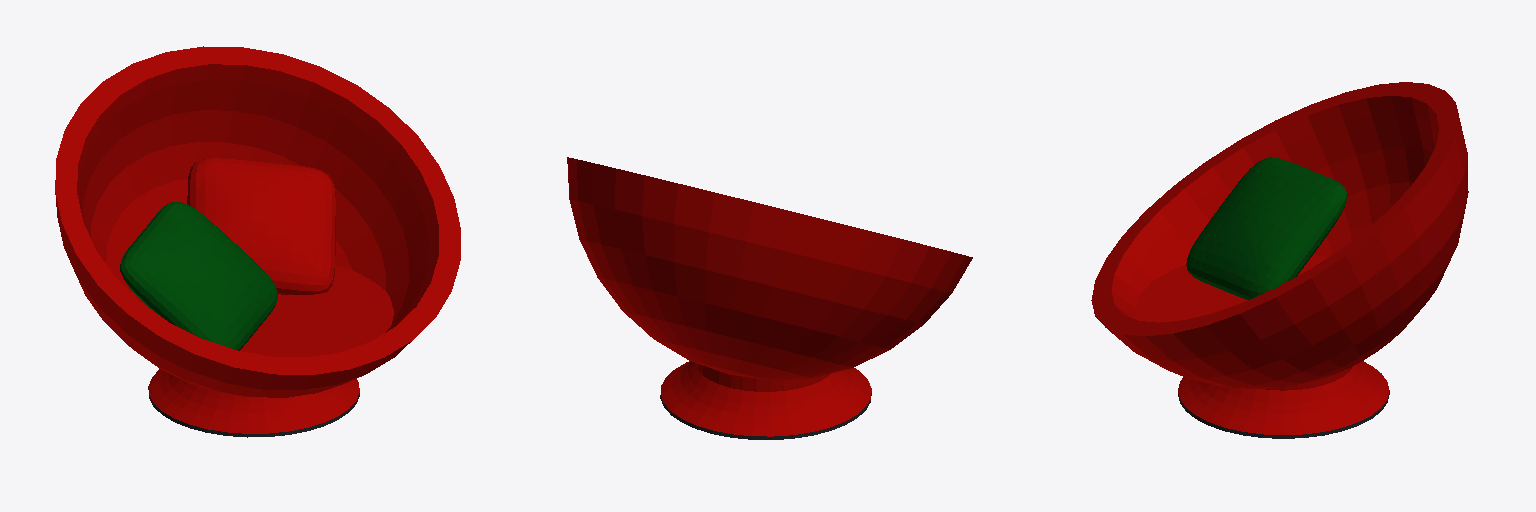
Rendered from Chair1.obj.
The picture shows the model from 3 angles: view 1: azimuth 30°, elevation 25°; view 2: azimuth 150°, elevation 25°; view 3: azimuth 270°, elevation 25°; orthographic projection.
Parts seen in each view (by area): view 1: ChairC_Cube.006; view 2: ChairC_Cube.006; view 3: ChairC_Cube.006.
Part boxes in pixels (bbox=[...]): ChairC_Cube.006: bbox=[55, 46, 460, 437]; ChairC_Cube.006: bbox=[567, 157, 972, 439]; ChairC_Cube.006: bbox=[1091, 82, 1468, 438].
Bounding box in the file's own units: 2.28 × 1.66 × 2.05.